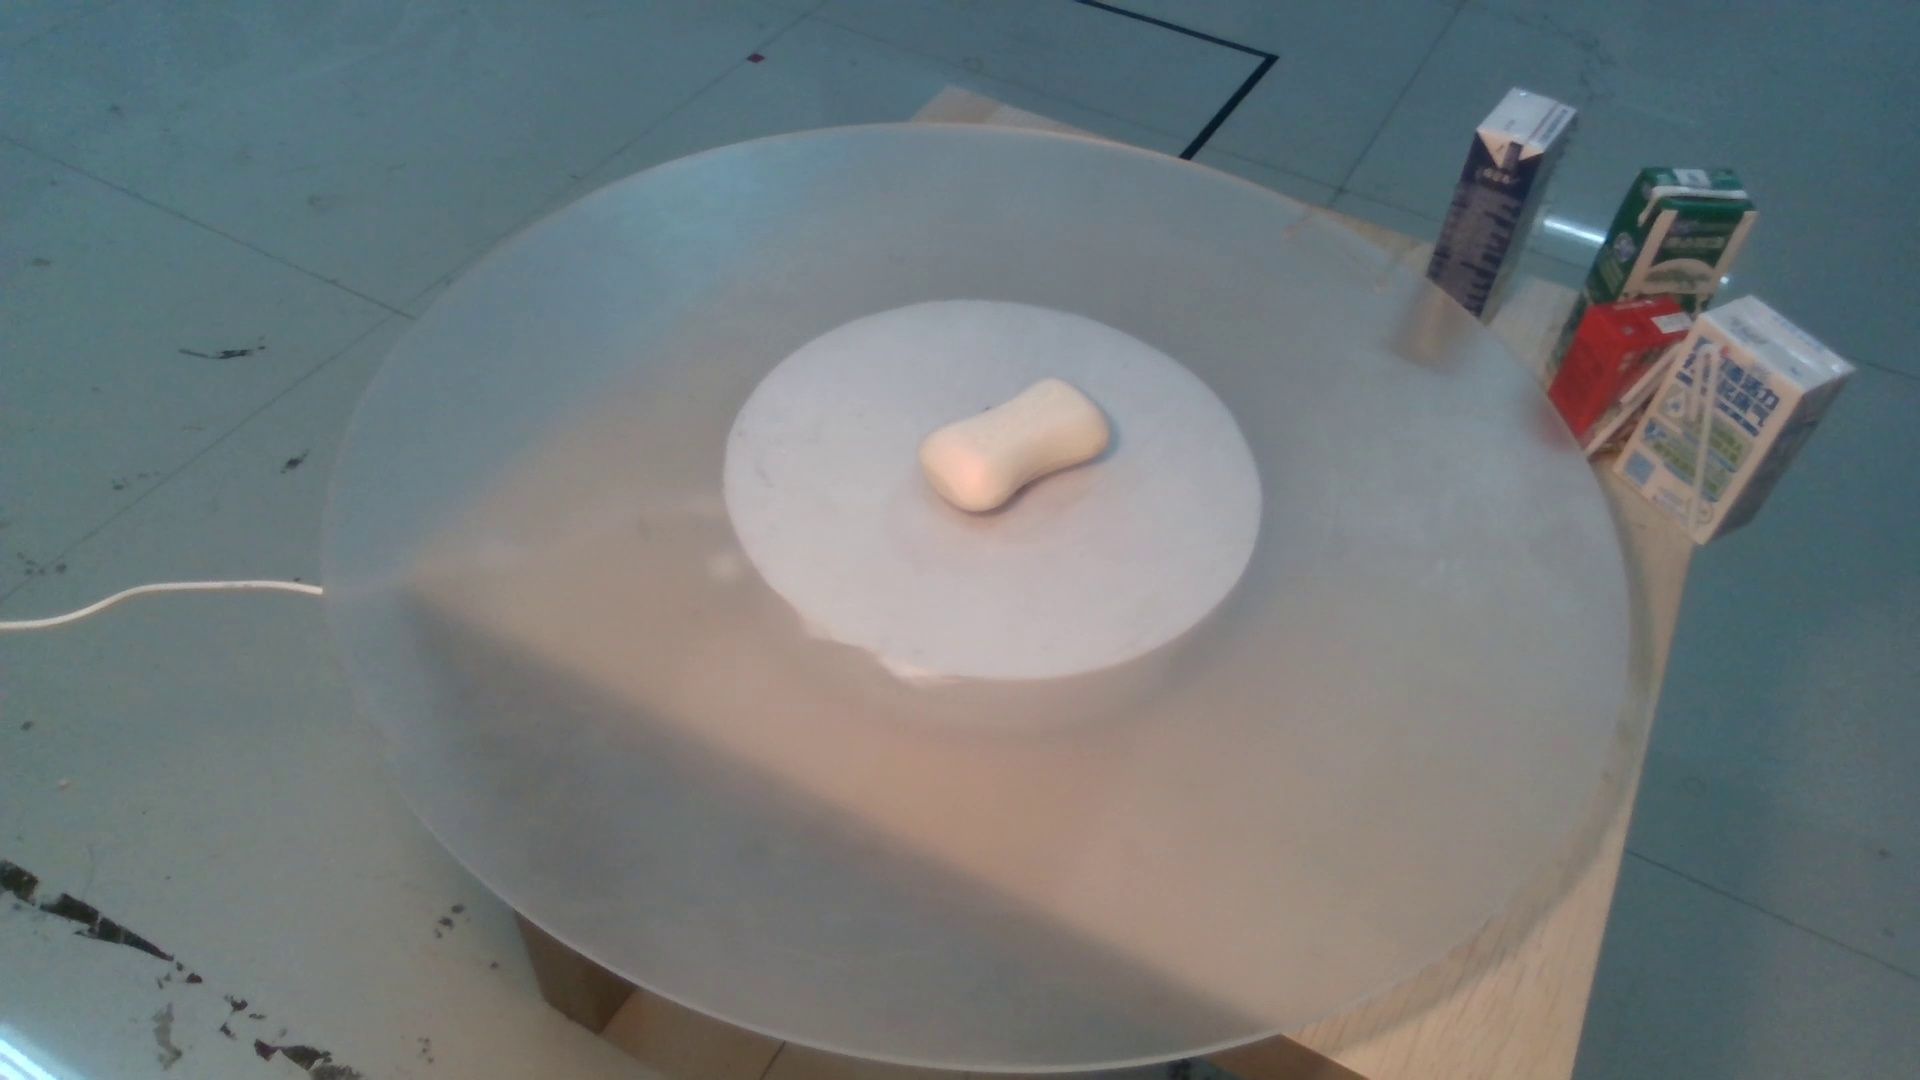CA003_1: (911, 367, 1120, 505)
